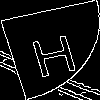H: (25, 24, 81, 79)
